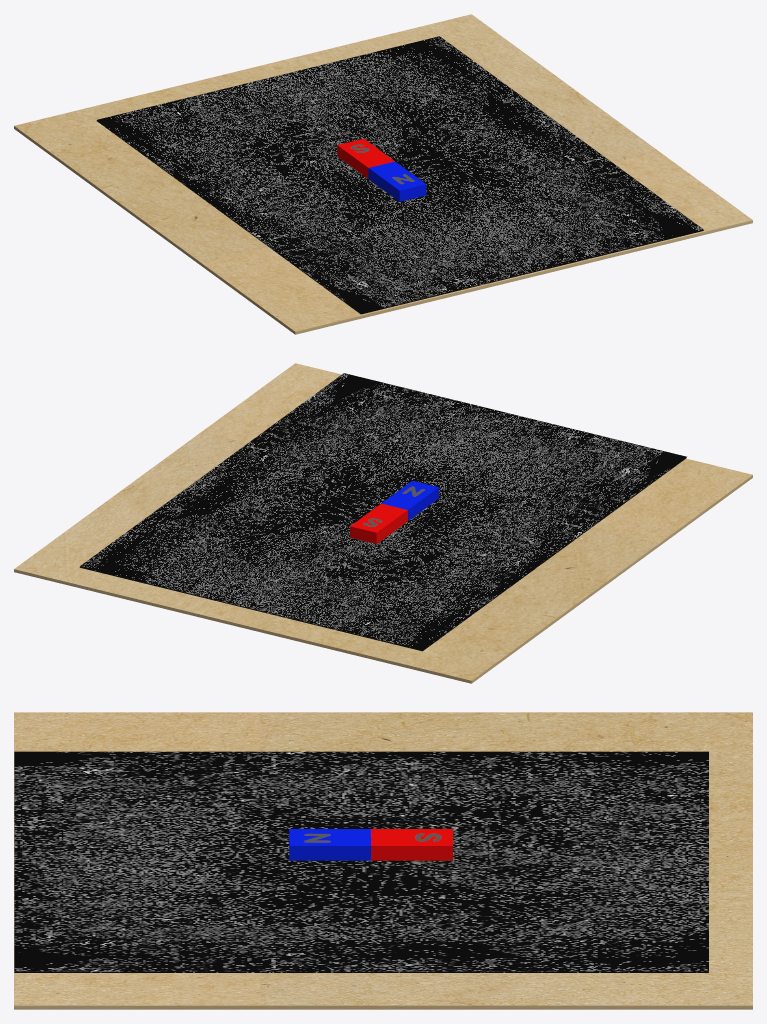
The model's file is Cardboard setup.fbx.
The picture shows the model from 3 angles, top to bottom: view 1: azimuth 30°, elevation 25°; view 2: azimuth 150°, elevation 25°; view 3: azimuth 270°, elevation 25°; orthographic projection. The views are drawn at different scales.
Parts seen in each view (by area): view 1: Random, Cardboard, Bar_magnet, Pattern; view 2: Random, Cardboard, Bar_magnet, Pattern; view 3: Random, Cardboard, Bar_magnet, Pattern.
Boxes of the visible parts, x1,y1,x2,y2 form: Random: (97,36,703,313); Cardboard: (14,14,752,334); Bar_magnet: (337,138,426,201); Pattern: (97,120,703,314); Random: (80,373,686,650); Cardboard: (14,363,752,683); Bar_magnet: (350,481,438,543); Pattern: (79,457,686,651); Random: (14,751,708,971); Cardboard: (14,712,752,1009); Bar_magnet: (289,829,452,860); Pattern: (14,971,708,972).
Bounding box in the file's own units: 165 × 5.63 × 176.
Materials: 4 (4 with a texture image).
